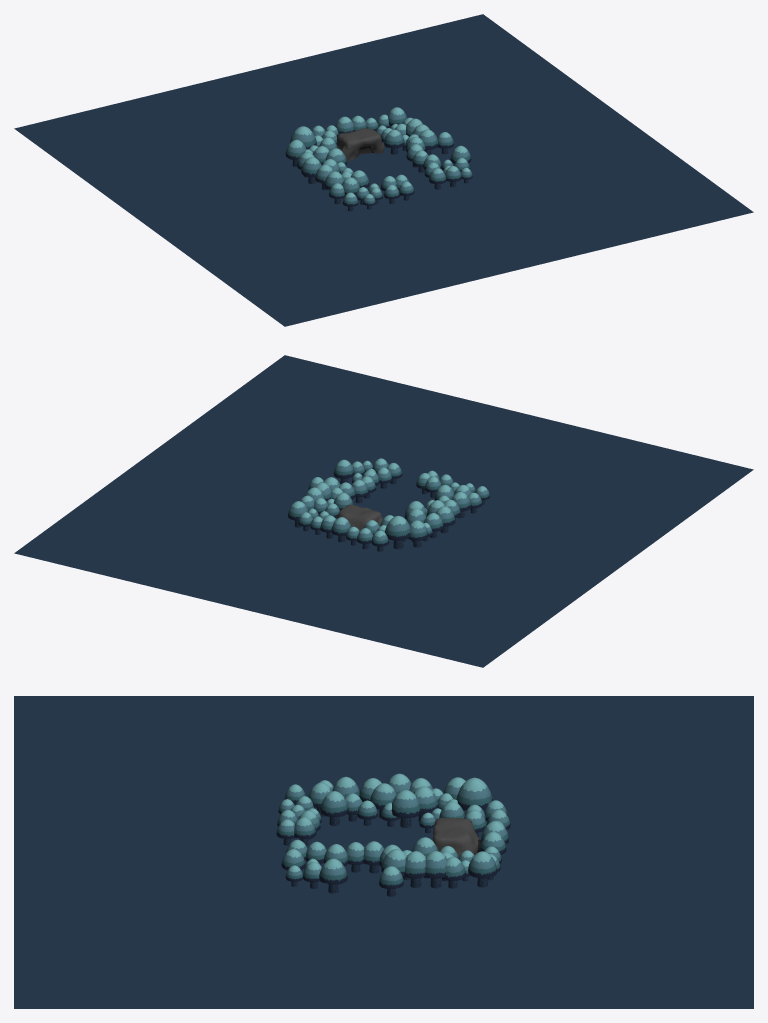
The model's file is Skunk Area.glb.
The picture shows the model from 3 angles, top to bottom: view 1: azimuth 30°, elevation 25°; view 2: azimuth 150°, elevation 25°; view 3: azimuth 270°, elevation 25°; orthographic projection. The views are drawn at different scales.
Parts seen in each view (by area): view 1: Ground, Skunk Den; view 2: Ground, Skunk Den, Placeholder Tree.746; view 3: Ground, Skunk Den, Placeholder Tree.746, Placeholder Tree.739, Placeholder Tree.751, Placeholder Tree.772, Placeholder Tree.729, Placeholder Tree.765, Placeholder Tree.764, Placeholder Tree.749.
Part boxes in pixels (left/top/right/bottom): Ground: left=14, top=14, right=753, bottom=326; Skunk Den: left=337, top=128, right=384, bottom=161; Ground: left=14, top=355, right=753, bottom=667; Skunk Den: left=337, top=504, right=382, bottom=530; Placeholder Tree.746: left=385, top=515, right=410, bottom=549; Ground: left=14, top=696, right=753, bottom=1008; Skunk Den: left=432, top=818, right=481, bottom=857; Placeholder Tree.746: left=456, top=777, right=492, bottom=810; Placeholder Tree.739: left=391, top=790, right=420, bottom=827; Placeholder Tree.751: left=468, top=851, right=497, bottom=887; Placeholder Tree.772: left=319, top=858, right=347, bottom=893; Placeholder Tree.729: left=320, top=791, right=348, bottom=825; Placeholder Tree.765: left=424, top=851, right=447, bottom=888; Placeholder Tree.764: left=404, top=851, right=425, bottom=887; Placeholder Tree.749: left=379, top=866, right=403, bottom=896.
Size of the model in its own units: 100 by 6.52 by 100.
4 materials, 3 textured.
